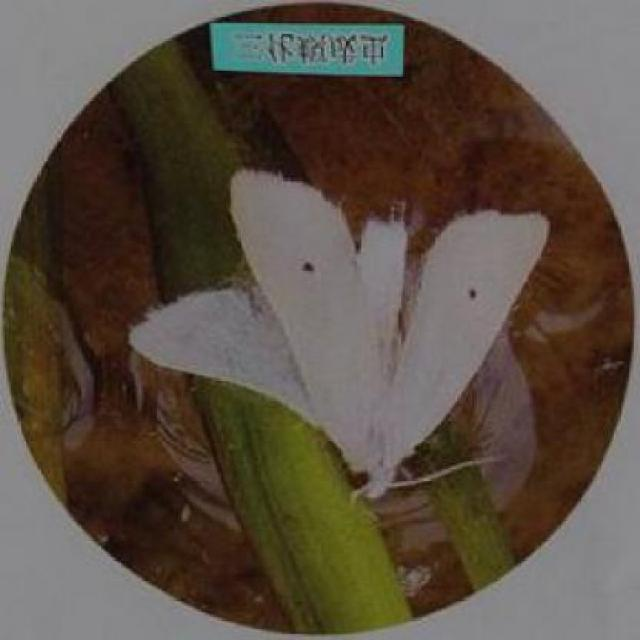stem-borer: (125, 168, 549, 503)
